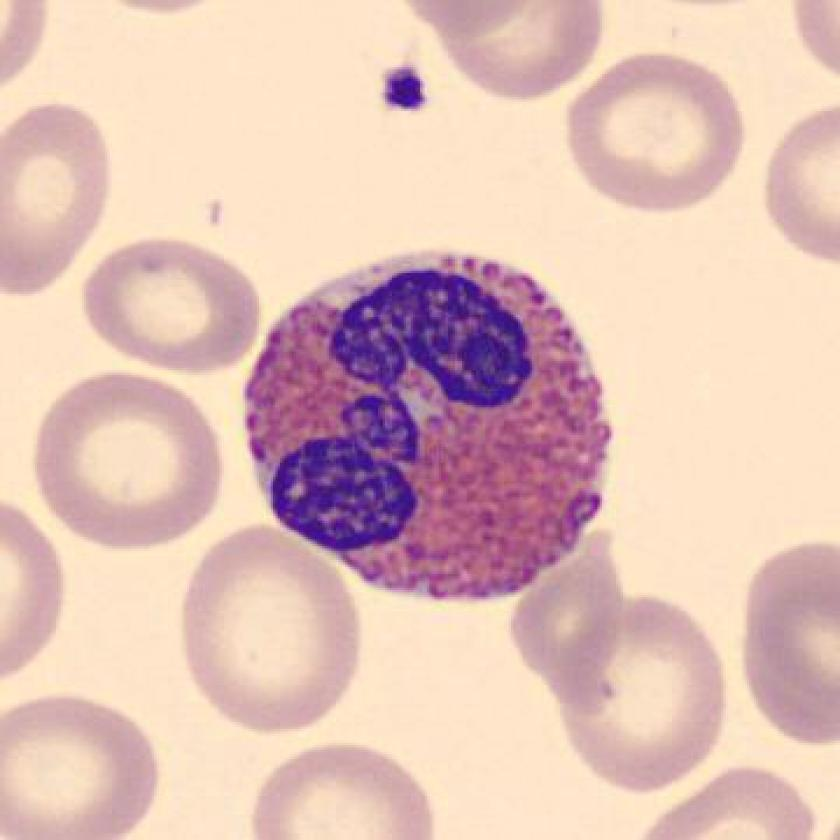eosinophil: (237, 235, 624, 617)
